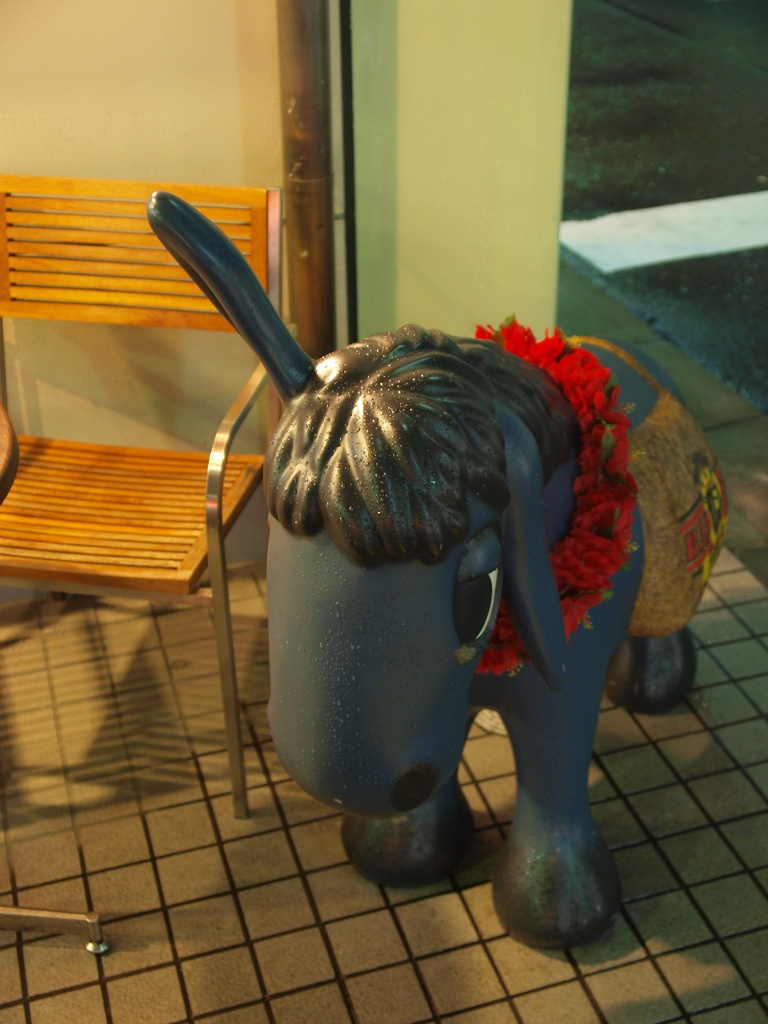Animal: (143, 188, 731, 947)
